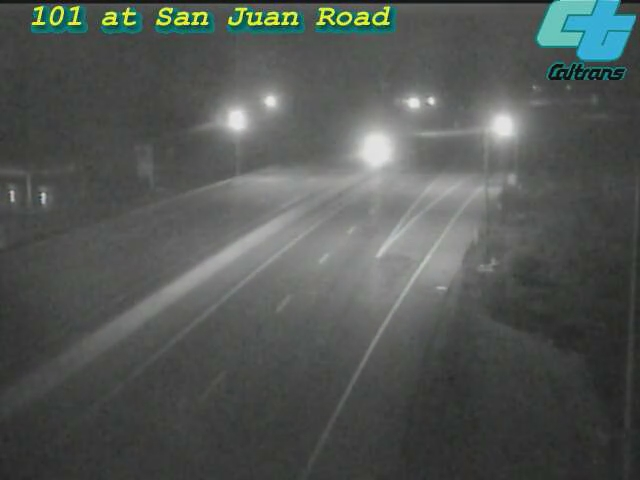vehicle: (349, 123, 399, 173), (471, 102, 521, 152)
